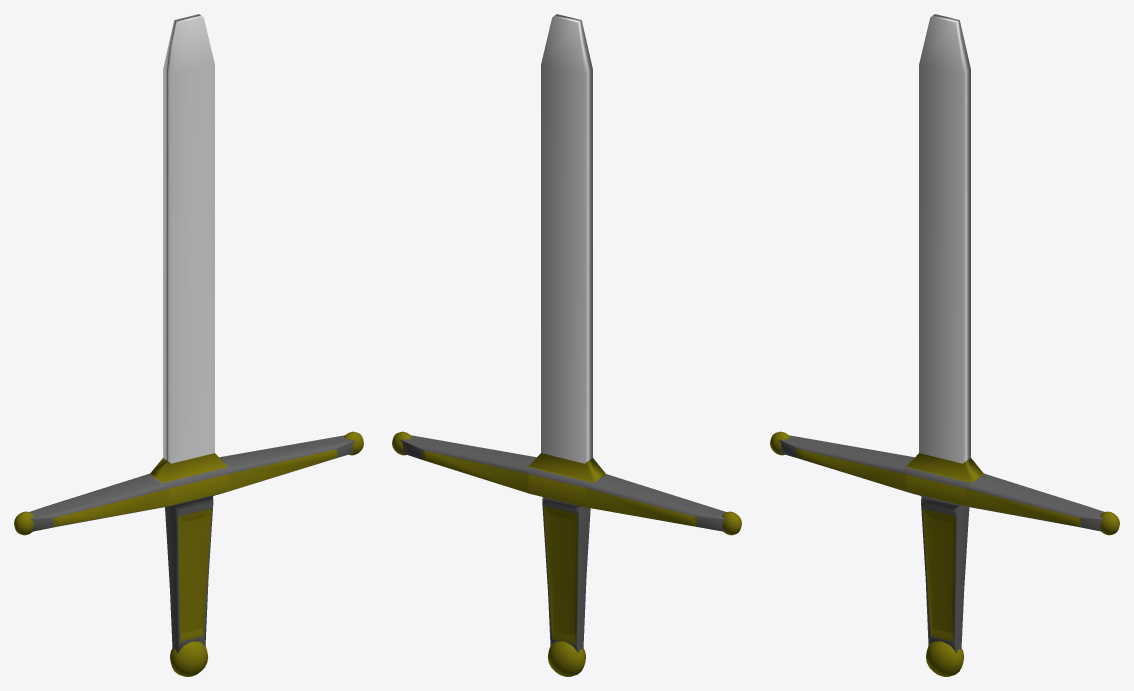
File: Sword.fbx
3 views of the same model, side by side, from view 1: azimuth 30°, elevation 25°; view 2: azimuth 150°, elevation 25°; view 3: azimuth 330°, elevation 25° (orthographic).
Visible parts, largest first — view 1: Sword; view 2: Sword; view 3: Sword.
Boxes of the visible parts, x1,y1,x2,y2 form: Sword: (14,14,363,676); Sword: (392,14,741,676); Sword: (770,14,1119,676).
Size of the model in its own units: 2.5 by 4.51 by 0.2404.
